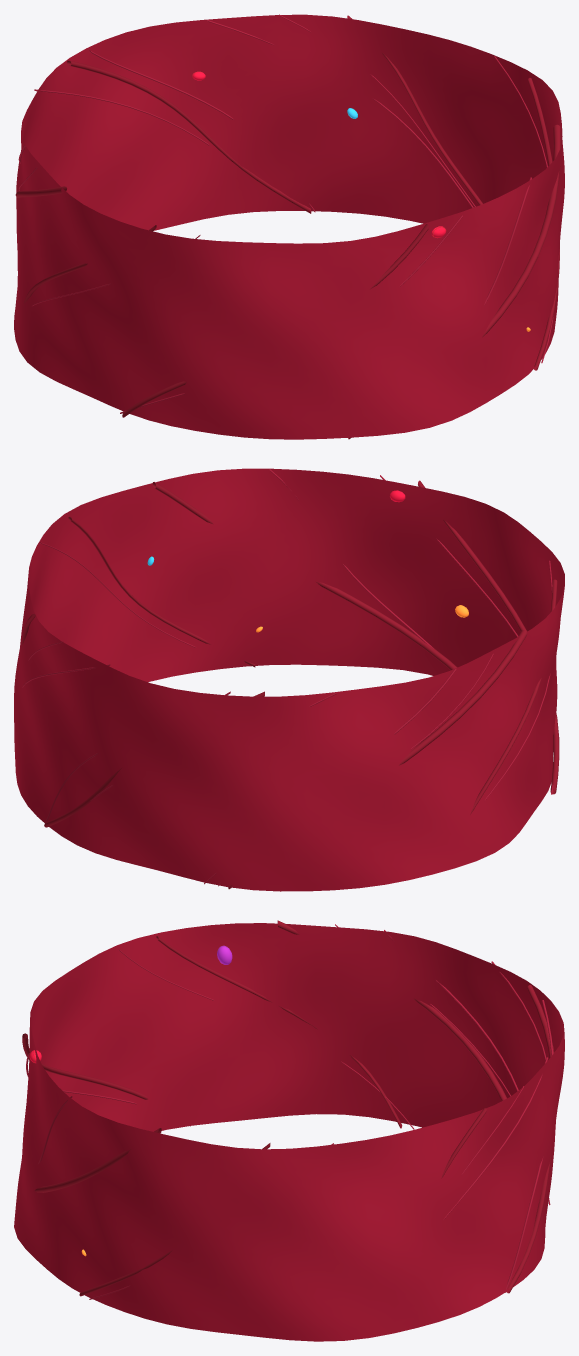
The model's file is vessel_wall_breathing.glb.
3 renders of one model, top to bottom at view 1: azimuth 30°, elevation 25°; view 2: azimuth 150°, elevation 25°; view 3: azimuth 270°, elevation 25°, orthographic.
Visible parts, largest first — view 1: VesselWallBreathing, VesselMuscleFold_05, VesselMuscleFold_01, VesselMuscleFold_06, VesselMuscleFold_04, VesselMuscleFold_00; view 2: VesselWallBreathing, VesselMuscleFold_05, VesselMuscleFold_02, VesselMuscleFold_04, VesselMuscleFold_03, VesselMuscleFold_06; view 3: VesselWallBreathing, VesselMuscleFold_01, VesselMuscleFold_02, VesselMuscleFold_03, VesselMuscleFold_04, VesselMuscleFold_05.
Part boxes in pixels (x1,y1,x2,y2): VesselWallBreathing: (14, 14, 564, 439); VesselMuscleFold_05: (348, 124, 560, 439); VesselMuscleFold_01: (67, 60, 311, 213); VesselMuscleFold_06: (528, 78, 559, 370); VesselMuscleFold_04: (122, 224, 428, 417); VesselMuscleFold_00: (347, 15, 482, 205); VesselWallBreathing: (14, 468, 564, 891); VesselMuscleFold_05: (152, 482, 457, 670); VesselMuscleFold_02: (228, 630, 527, 889); VesselMuscleFold_04: (418, 480, 559, 794); VesselMuscleFold_03: (470, 579, 557, 814); VesselMuscleFold_06: (68, 516, 255, 667); VesselWallBreathing: (14, 923, 564, 1341); VesselMuscleFold_01: (506, 985, 554, 1293); VesselMuscleFold_02: (277, 920, 506, 1100); VesselMuscleFold_03: (156, 936, 402, 1128); VesselMuscleFold_04: (22, 1033, 190, 1126); VesselMuscleFold_05: (34, 1128, 161, 1192).
Size of the model in its own units: 30.52 by 12.4 by 31.1.
